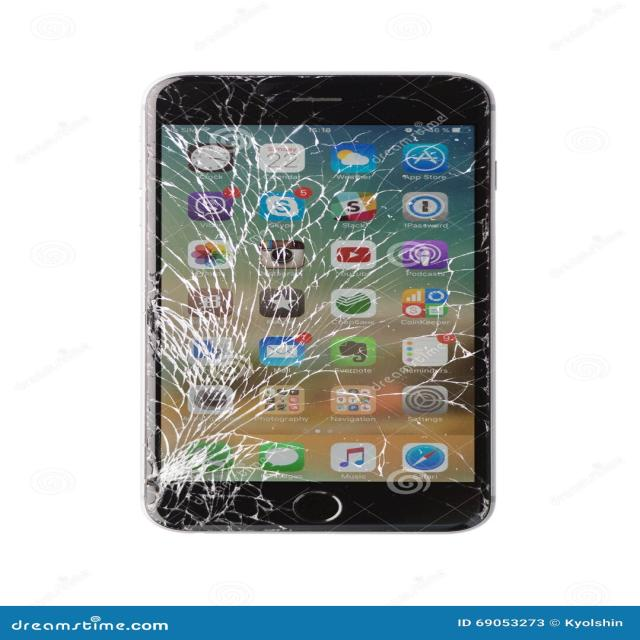phones: (146, 75, 492, 531)
